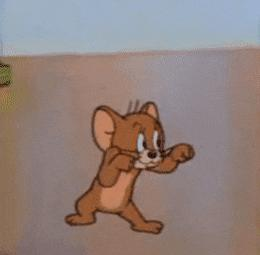jerry: (64, 100, 196, 235)
